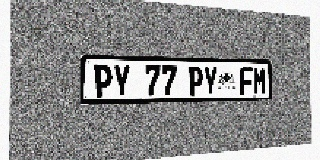7: (144, 65, 160, 97), (161, 66, 177, 96)
F: (240, 67, 253, 95)
M: (253, 67, 266, 94)
P: (94, 64, 112, 98), (188, 66, 203, 96)
Y: (113, 65, 130, 97), (203, 66, 217, 95)
